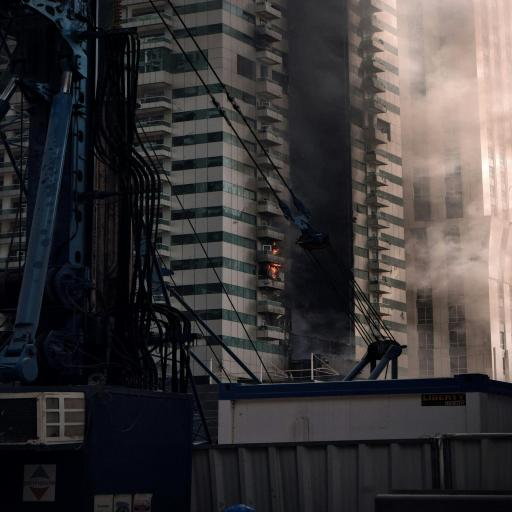buildingfire: (160, 14, 440, 370)
